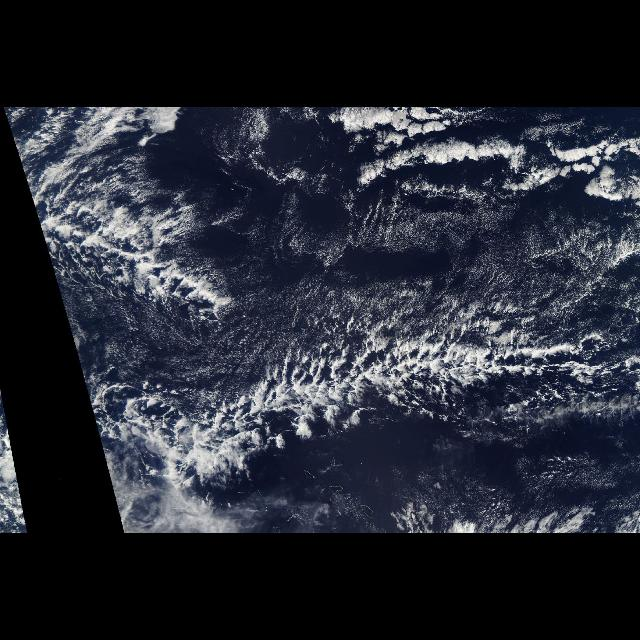Fish: (74, 206, 630, 469)
Sugar: (185, 198, 640, 494), (58, 190, 88, 204)
